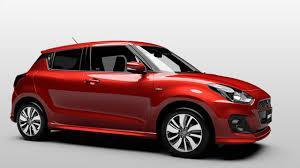Hatchback: (10, 38, 276, 157)
